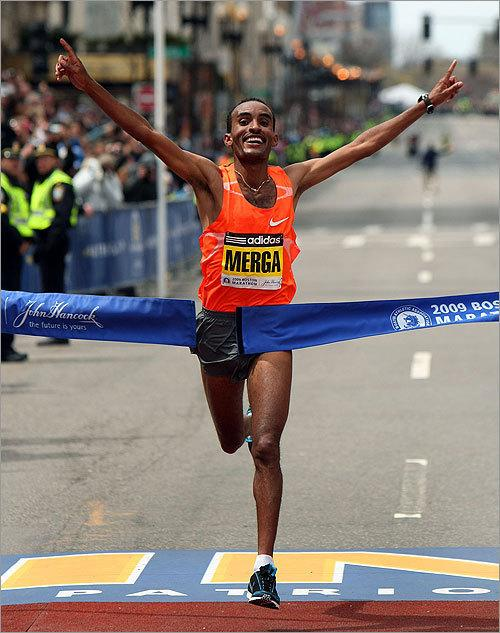person: (56, 38, 463, 612)
